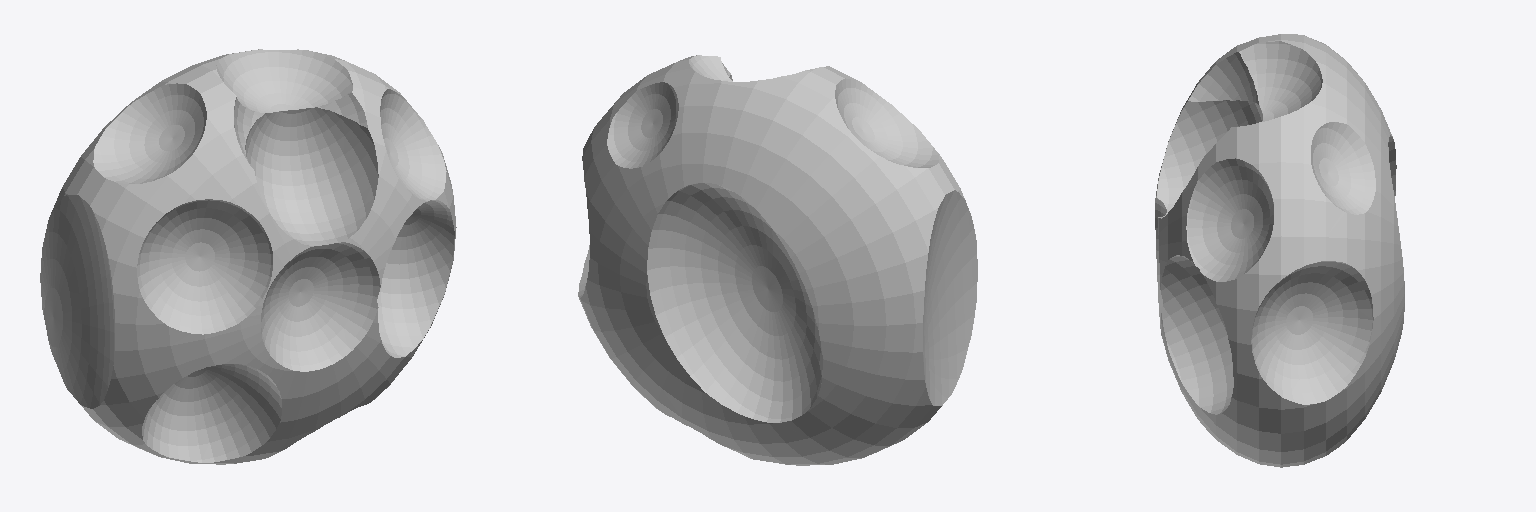
Rendered from piedra.obj.
The picture shows the model from 3 angles: view 1: azimuth 30°, elevation 25°; view 2: azimuth 150°, elevation 25°; view 3: azimuth 270°, elevation 25°; orthographic projection.
Visible parts, largest first — view 1: mesh01; view 2: mesh01; view 3: mesh01.
Boxes of the visible parts, <box> form: mesh01: <box>40,49,456,464</box>; mesh01: <box>578,55,977,465</box>; mesh01: <box>1155,34,1404,467</box>.
Bounding box in the file's own units: 49.29 × 49.67 × 28.7.